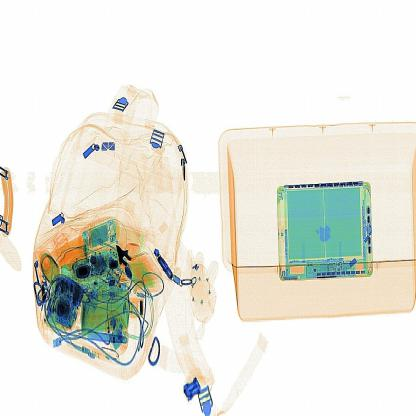gun: (109, 231, 141, 278)
